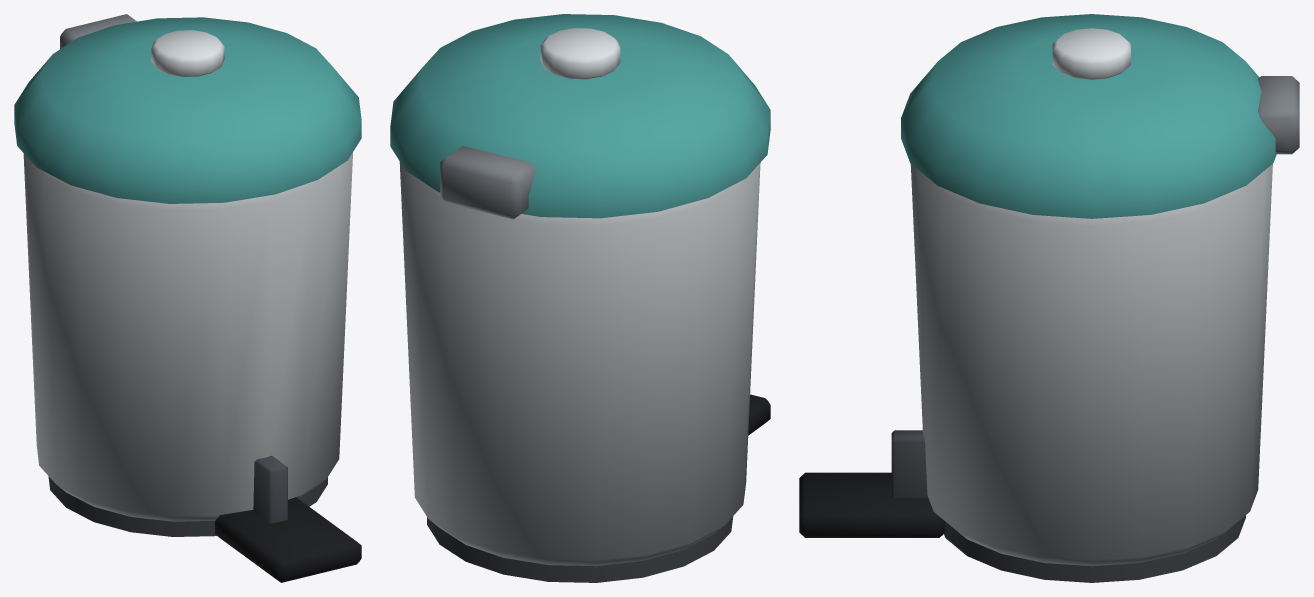
File: WasteBin_01.glb
The picture shows the model from 3 angles, left to right: view 1: azimuth 30°, elevation 25°; view 2: azimuth 150°, elevation 25°; view 3: azimuth 270°, elevation 25°; orthographic projection. The views are drawn at different scales.
Parts seen in each view (by area): view 1: SM_WasteBin_01; view 2: SM_WasteBin_01; view 3: SM_WasteBin_01.
Boxes of the visible parts, x1,y1,x2,y2 form: SM_WasteBin_01: [14, 14, 361, 582]; SM_WasteBin_01: [390, 14, 770, 582]; SM_WasteBin_01: [799, 14, 1299, 582].
Bounding box in the file's own units: 0.248 × 0.34 × 0.325.
1 material, 1 textured.
